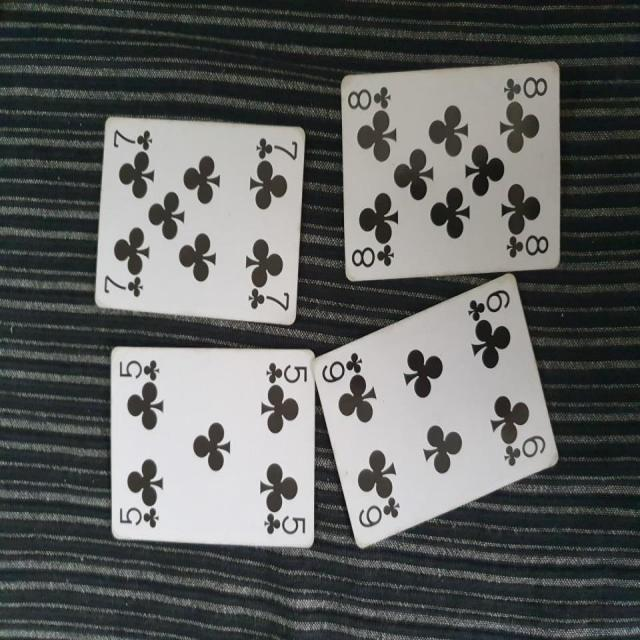5 Trefoils: (108, 344, 316, 548)
6 Trefoils: (309, 272, 561, 551)
7 Trefoils: (94, 116, 307, 326)
8 Trefoils: (339, 56, 564, 284)
